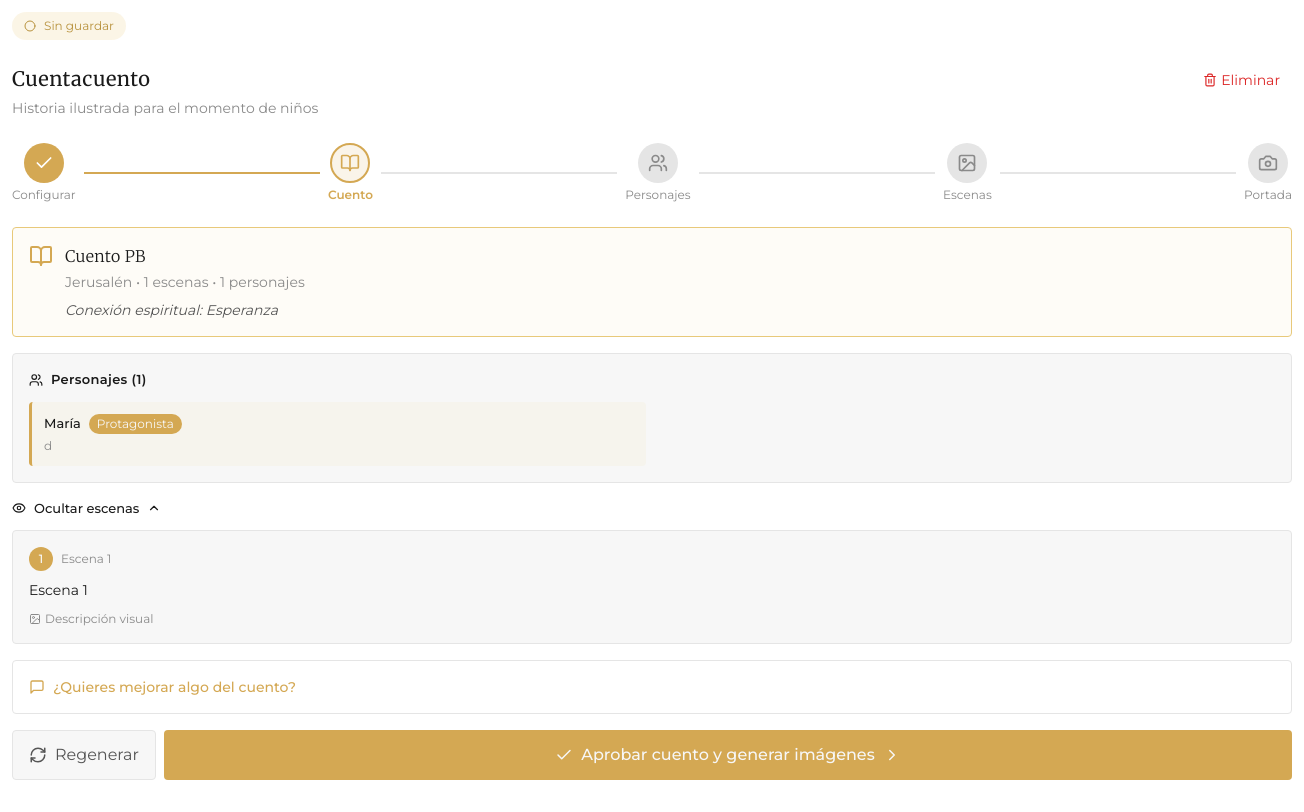
Test: PB T-B.7 (4) — regenerar y "Empezar de nuevo" no borran bytes › "Regenerar" descarta el lote en curso sin tocar Storage
What coordinates should you click on to do the following:
click the button "Regenerar"
I would click on:
 (84, 755)
Its box is [12,730,156,780].
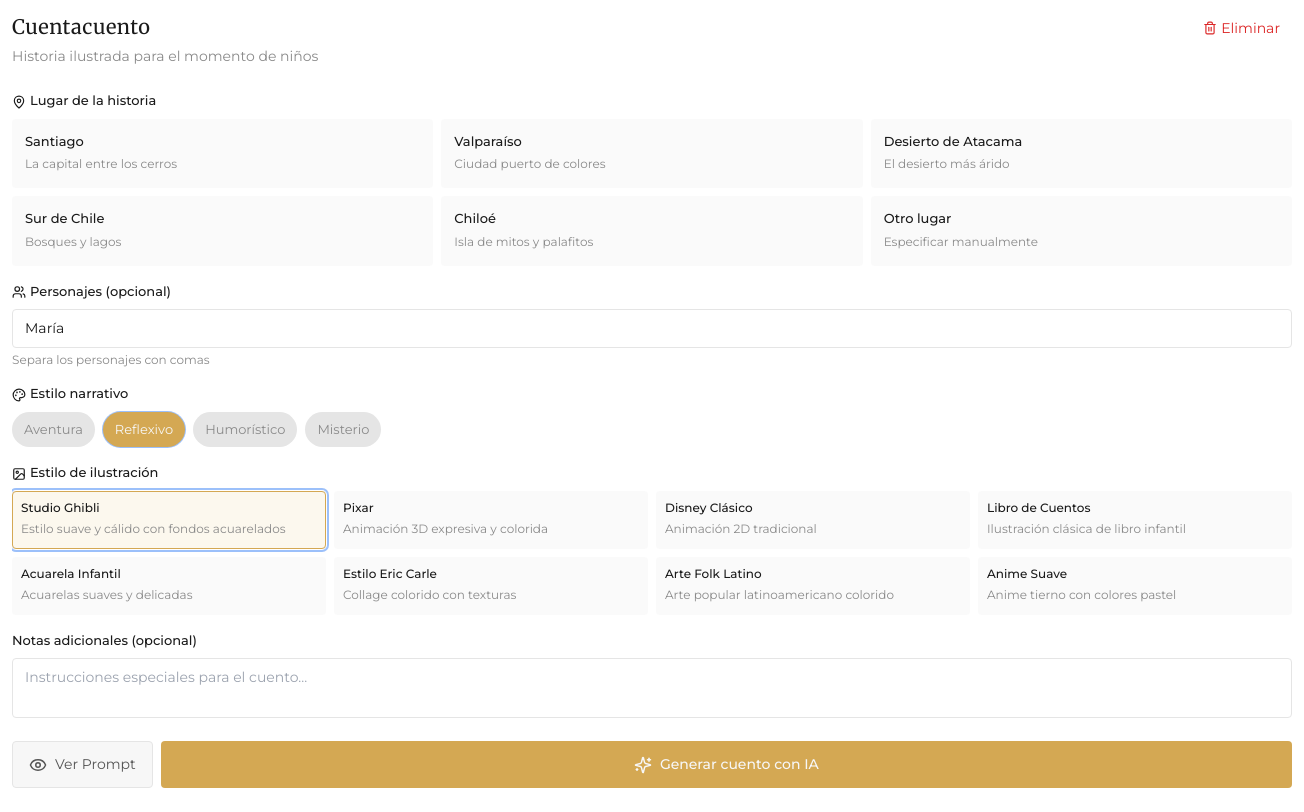
Check: the button "Regenerar" is gone
